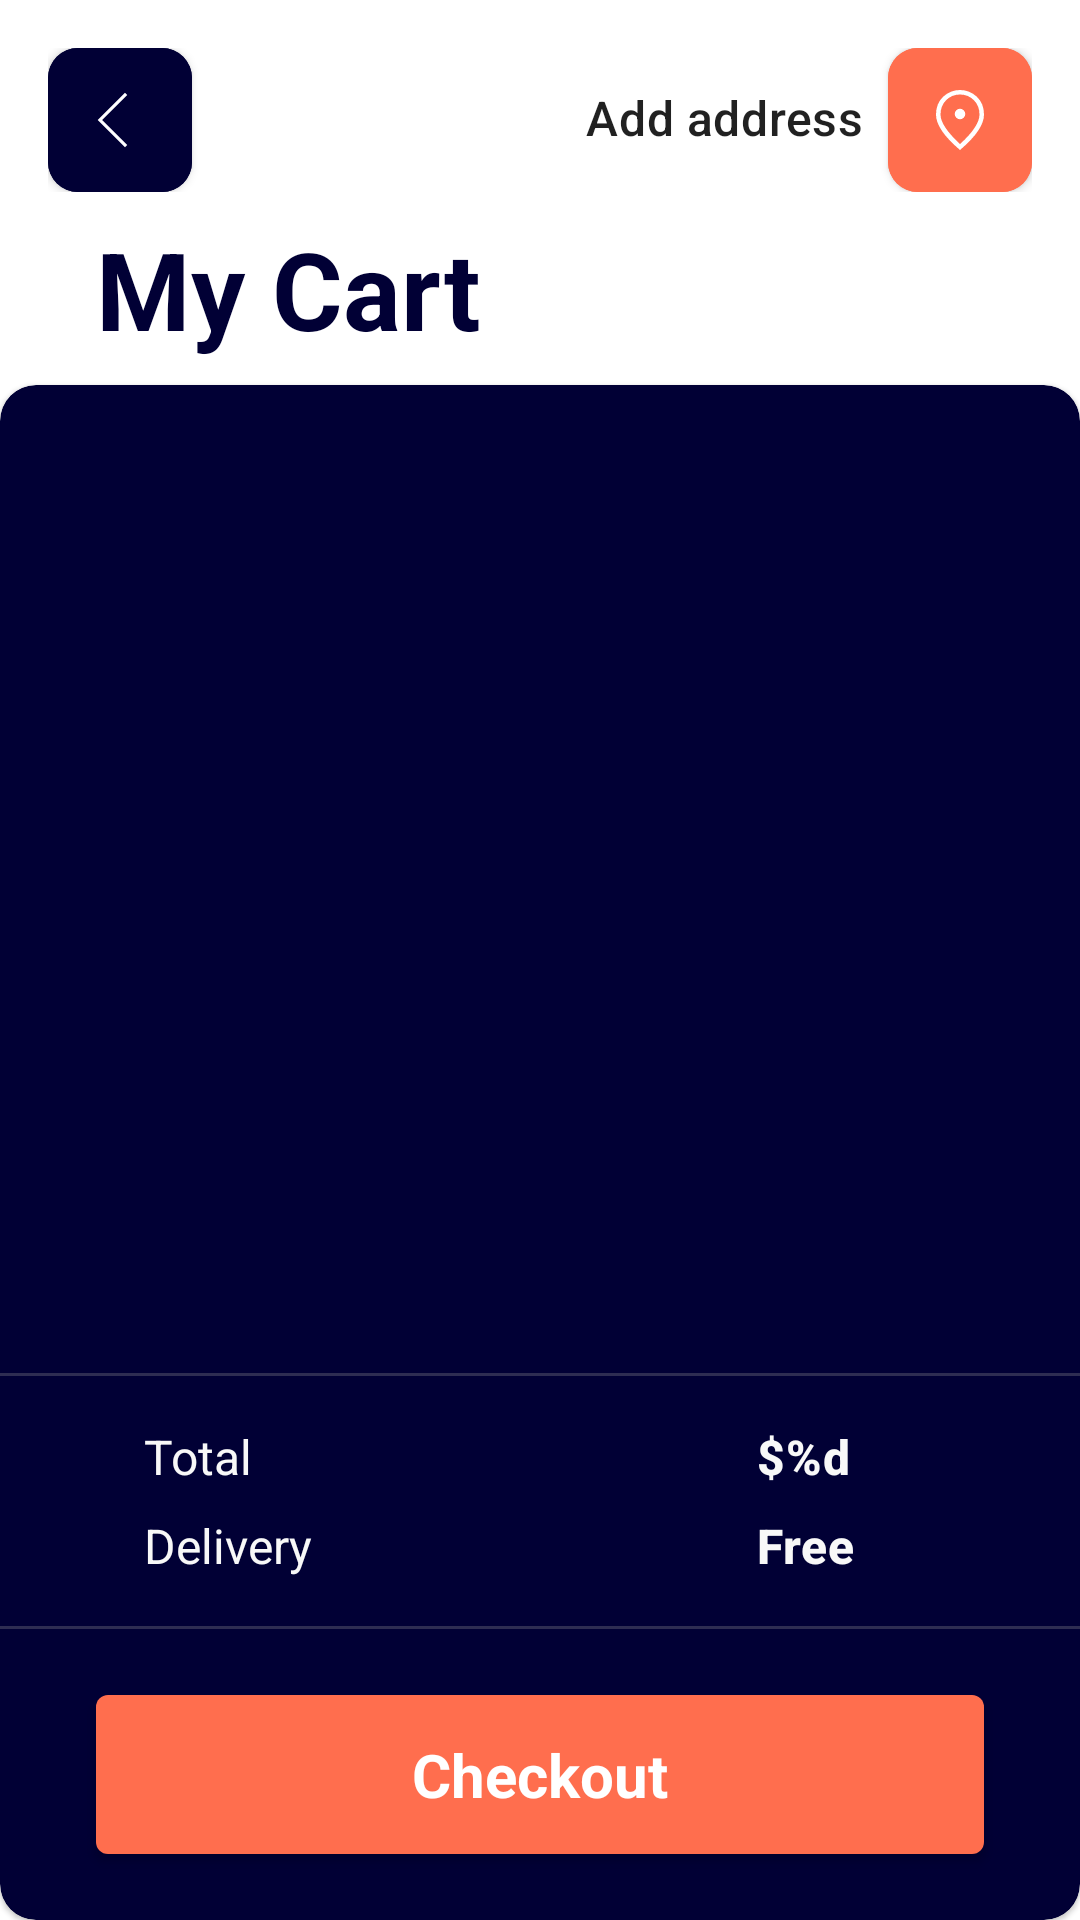

Named icons in this screenshot (1080x1920) and their centers, point (x, y):
backarrow: point (120, 120)
location pin: point (960, 120)
